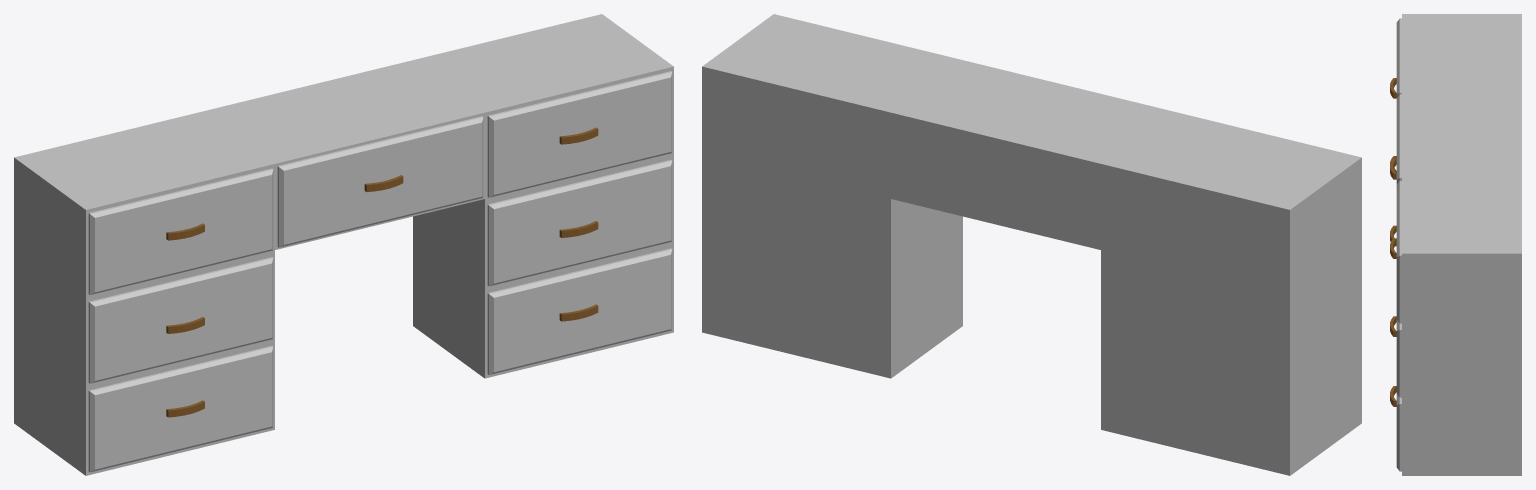
The model's file is Wardrobe_6.fbx.
3 renders of one model, left to right at view 1: azimuth 30°, elevation 25°; view 2: azimuth 150°, elevation 25°; view 3: azimuth 270°, elevation 25°, orthographic. The views are drawn at different scales.
Visible parts, largest first — view 1: Wardrobe_6, Wardrobe_6 Door_4, Wardrobe_6 Door_3, Wardrobe_6 Door_5, Wardrobe_6 Door_6, Wardrobe_6 Door_2, Wardrobe_6 Door_7, Wardrobe_6 Door_1; view 2: Wardrobe_6; view 3: Wardrobe_6, Wardrobe_6 Door_5, Wardrobe_6 Door_4, Wardrobe_6 Door_1, Wardrobe_6 Door_7, Wardrobe_6 Door_6.
Boxes of the visible parts, x1,y1,x2,y2 form: Wardrobe_6: (14,14,673,475); Wardrobe_6 Door_4: (277,116,483,247); Wardrobe_6 Door_3: (88,346,273,472); Wardrobe_6 Door_5: (487,71,672,197); Wardrobe_6 Door_6: (487,159,672,286); Wardrobe_6 Door_2: (88,257,273,383); Wardrobe_6 Door_7: (487,248,672,374); Wardrobe_6 Door_1: (88,168,273,294); Wardrobe_6: (702,14,1361,475); Wardrobe_6: (1402,14,1521,475); Wardrobe_6 Door_5: (1390,181,1401,323); Wardrobe_6 Door_4: (1390,94,1401,184); Wardrobe_6 Door_1: (1390,18,1401,98); Wardrobe_6 Door_7: (1390,386,1401,471); Wardrobe_6 Door_6: (1390,316,1401,397).
Size of the model in its own units: 1.85 by 0.7984 by 0.4294.
